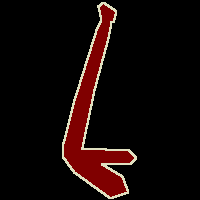tie: (63, 2, 136, 198)
